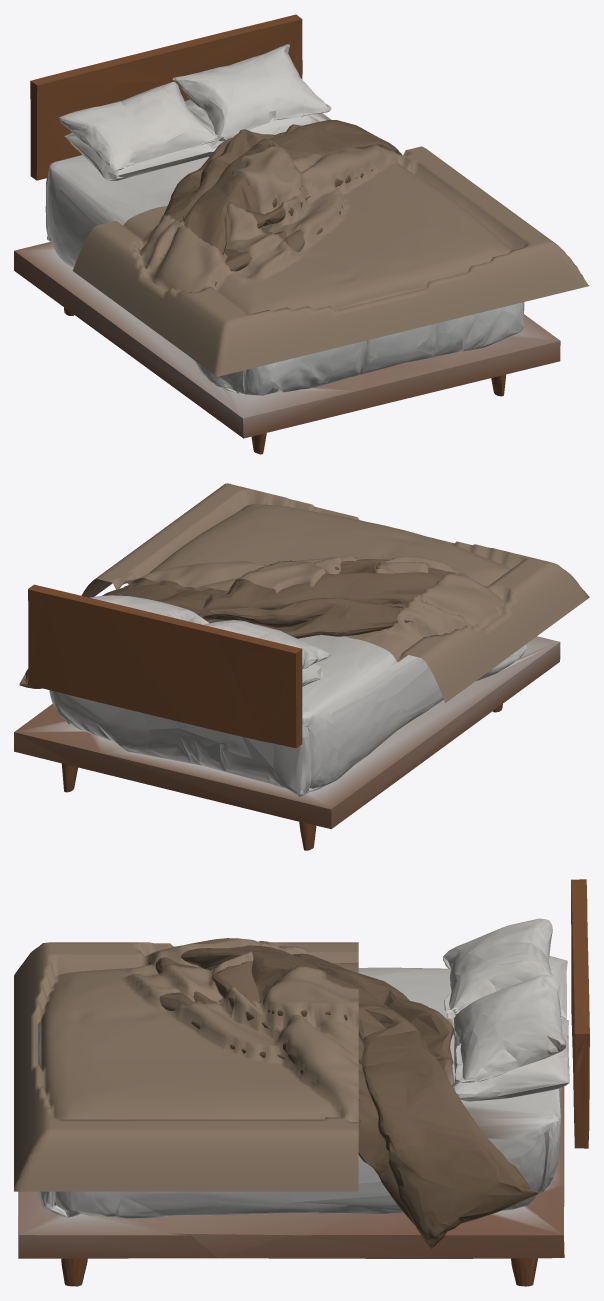
Rendered from bed-blanket.glb.
3 renders of one model, top to bottom at view 1: azimuth 30°, elevation 25°; view 2: azimuth 150°, elevation 25°; view 3: azimuth 270°, elevation 25°, orthographic. The views are drawn at different scales.
Parts seen in each view (by area): view 1: Mesh_0, Blanket; view 2: Mesh_0, Blanket; view 3: Mesh_0, Blanket.
Boxes of the visible parts, x1,y1,x2,y2 form: Mesh_0: (14, 14, 560, 454); Blanket: (72, 145, 589, 376); Mesh_0: (14, 559, 560, 850); Blanket: (81, 483, 589, 702); Mesh_0: (18, 879, 589, 1286); Blanket: (14, 938, 358, 1191).
Bounding box in the file's own units: 1.88 × 1.05 × 2.12.
